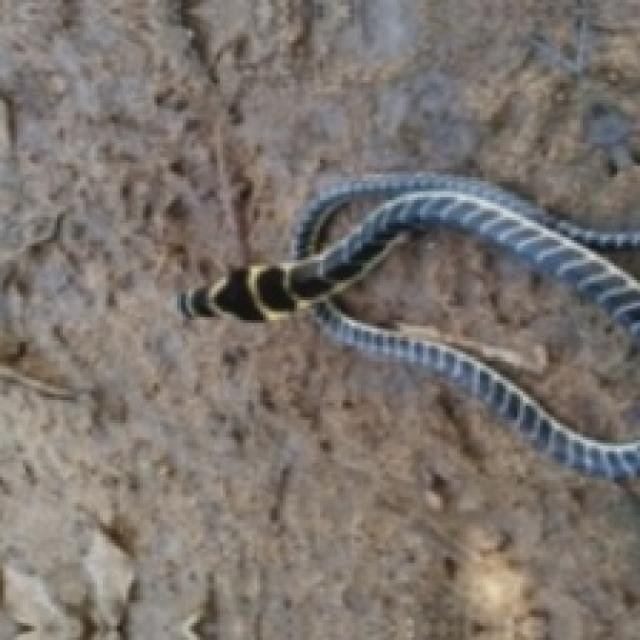king cobra: (180, 171, 637, 477)
